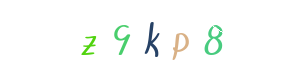8: (134, 0, 214, 80)
9: (112, 0, 192, 80)
K: (112, 0, 192, 80)
P: (125, 0, 205, 80)
Z: (49, 0, 129, 80)
